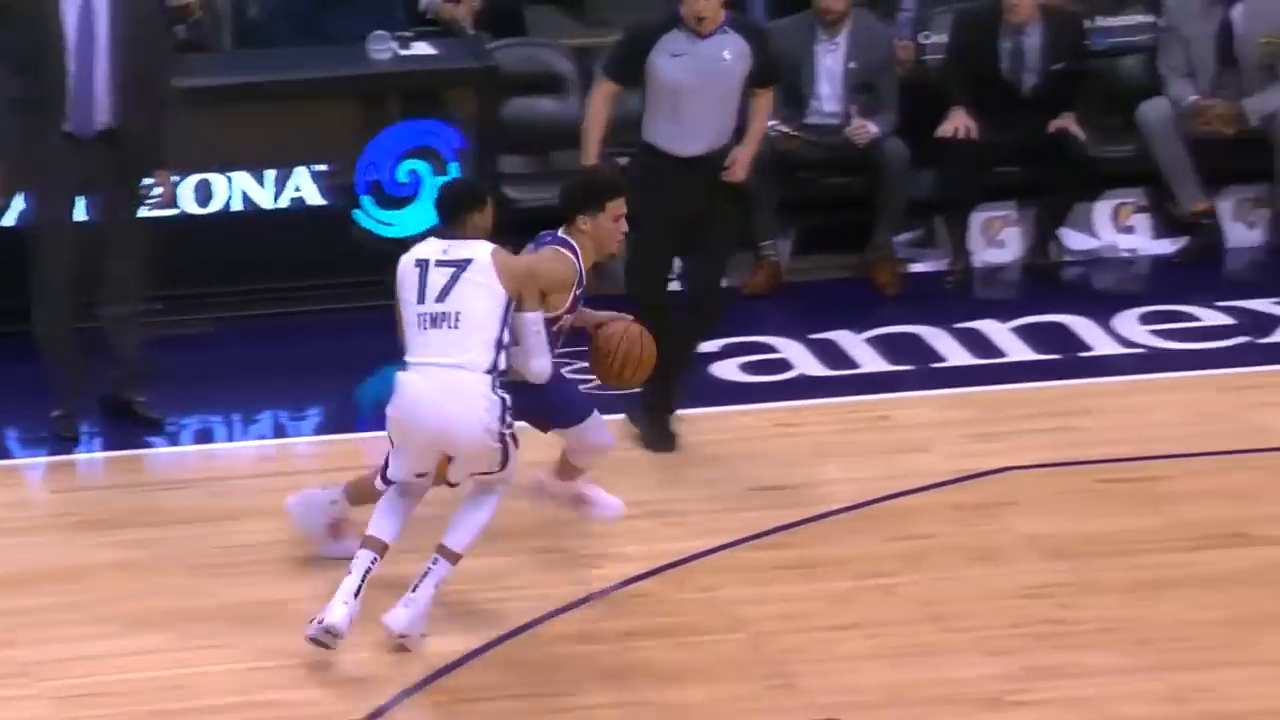ball: (588, 323, 657, 383)
